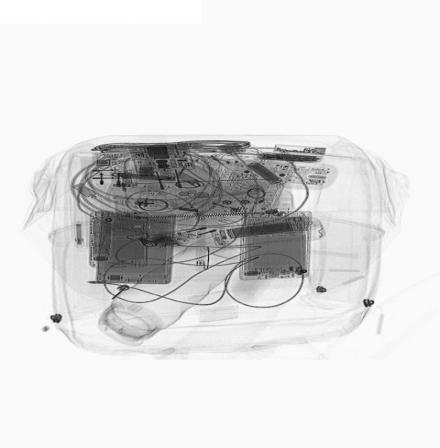Lighter: (269, 145, 328, 156)
